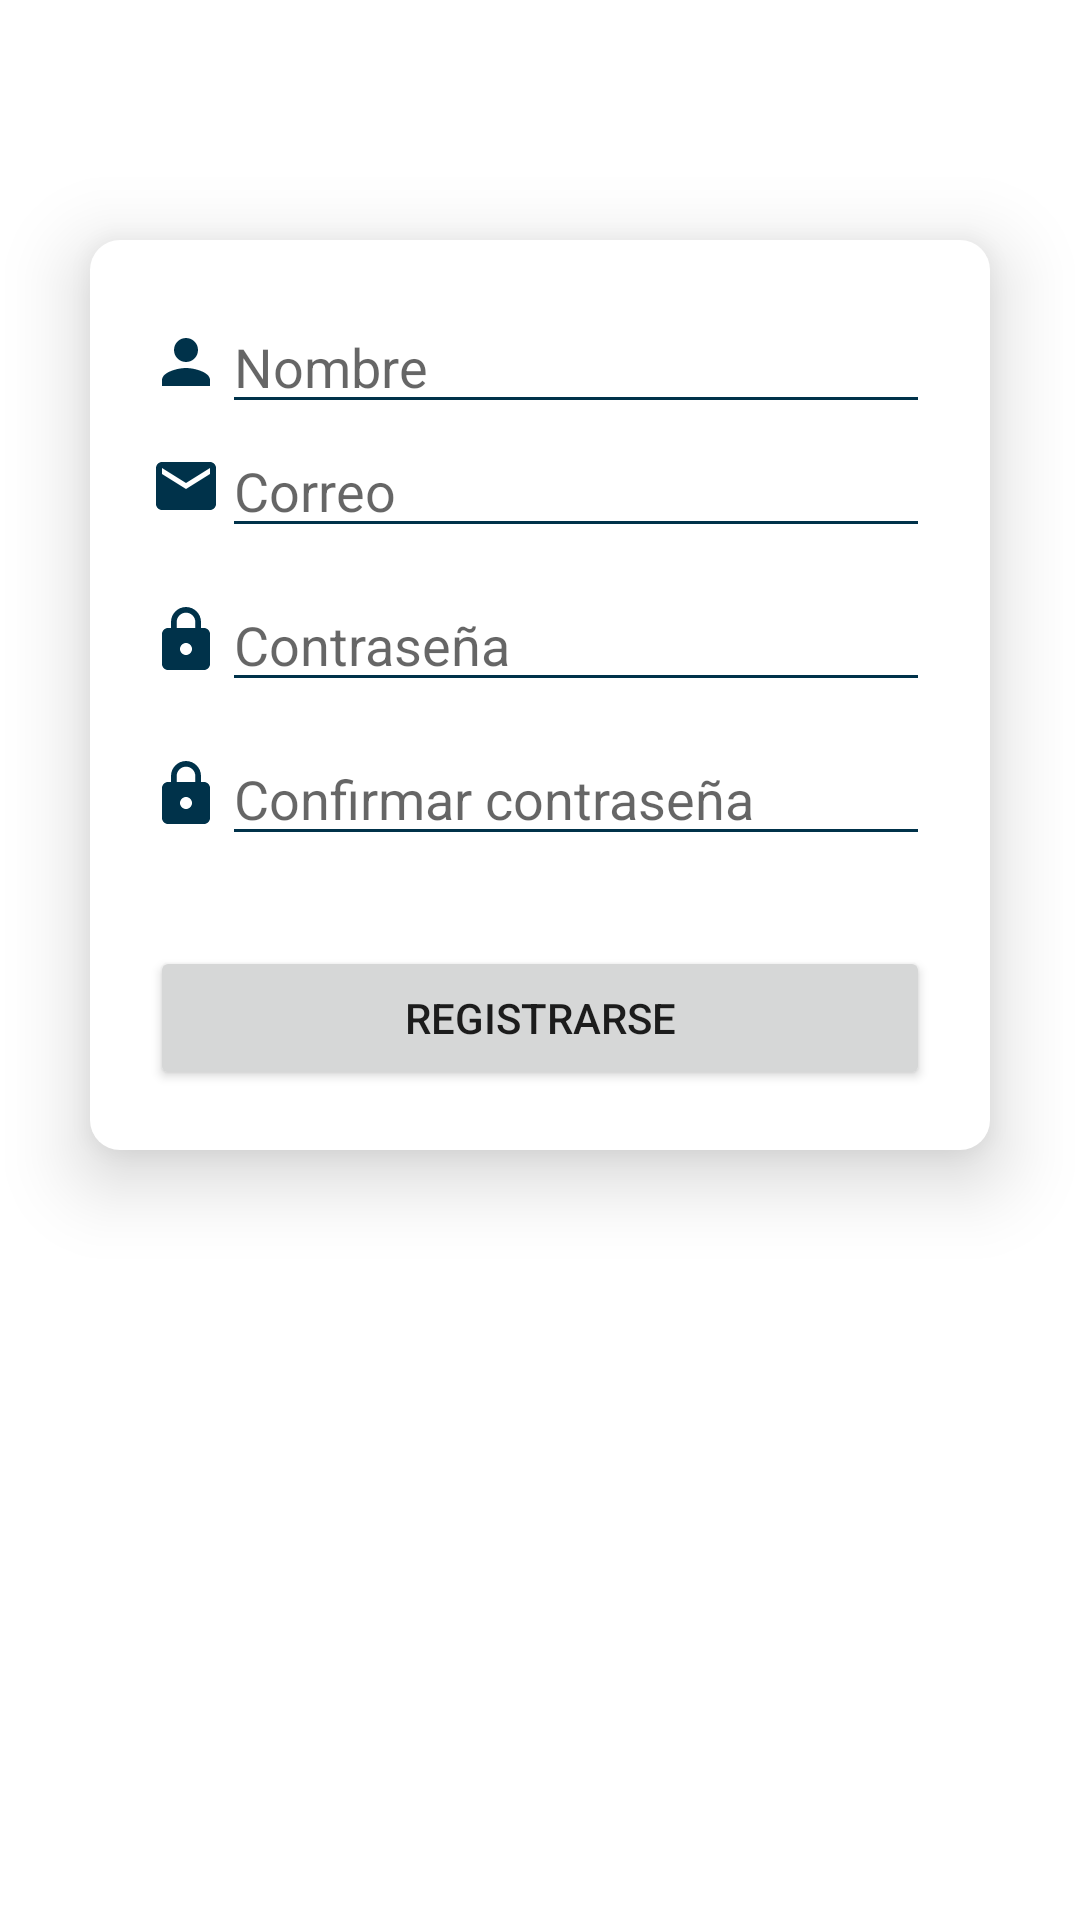

Icon click points for this 1080px×1920px phone screenshot, format (x=x, y=y):
email: (x=186, y=486)
password: (x=186, y=638), (x=186, y=792)
user: (x=186, y=362)
